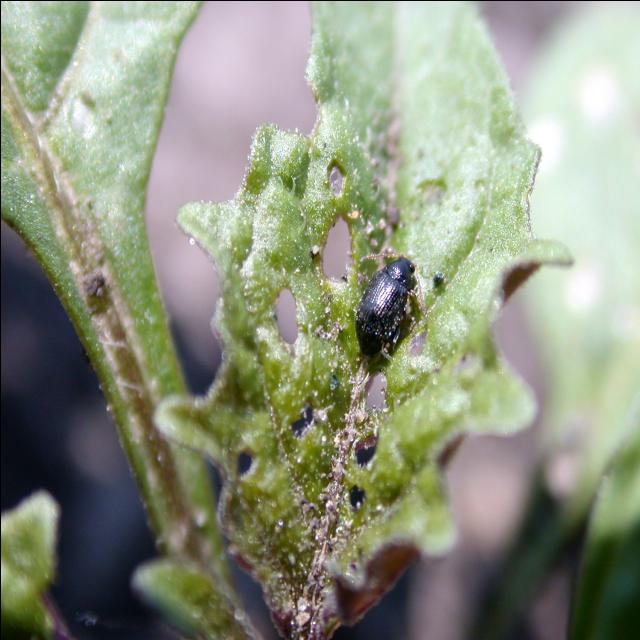flea_beetle: (344, 228, 436, 374)
